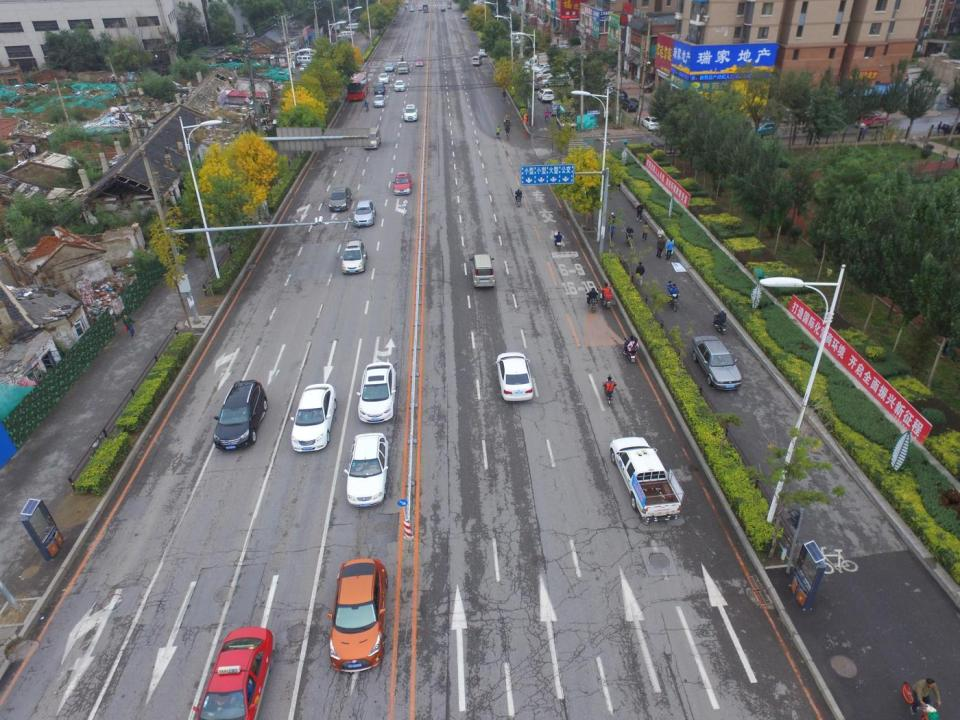bus: (347, 72, 370, 100)
car: (193, 620, 276, 718), (326, 556, 388, 672), (214, 378, 268, 450), (289, 381, 339, 453), (343, 432, 388, 507), (693, 334, 742, 392), (357, 363, 398, 424), (496, 350, 533, 404), (352, 197, 375, 228), (327, 186, 353, 212), (532, 64, 569, 80), (855, 114, 890, 129), (533, 72, 574, 82), (394, 170, 410, 193), (751, 121, 777, 135), (642, 116, 666, 131), (401, 104, 418, 120), (609, 89, 625, 106), (622, 100, 640, 113), (599, 72, 613, 88), (374, 95, 386, 109), (378, 73, 390, 87), (374, 83, 385, 94), (604, 86, 617, 95), (415, 57, 425, 67), (394, 81, 403, 92), (562, 42, 570, 54), (478, 49, 488, 58), (386, 64, 393, 70), (464, 13, 468, 20)
truck: (610, 437, 685, 522)
van: (467, 252, 497, 291), (342, 238, 366, 274), (528, 52, 565, 67), (539, 74, 573, 88), (364, 128, 382, 154), (537, 88, 557, 103), (292, 47, 311, 61), (551, 101, 564, 117), (300, 65, 322, 74), (304, 50, 322, 59), (294, 57, 316, 64), (398, 62, 410, 73), (346, 22, 362, 30), (471, 56, 482, 66), (338, 31, 354, 37)
